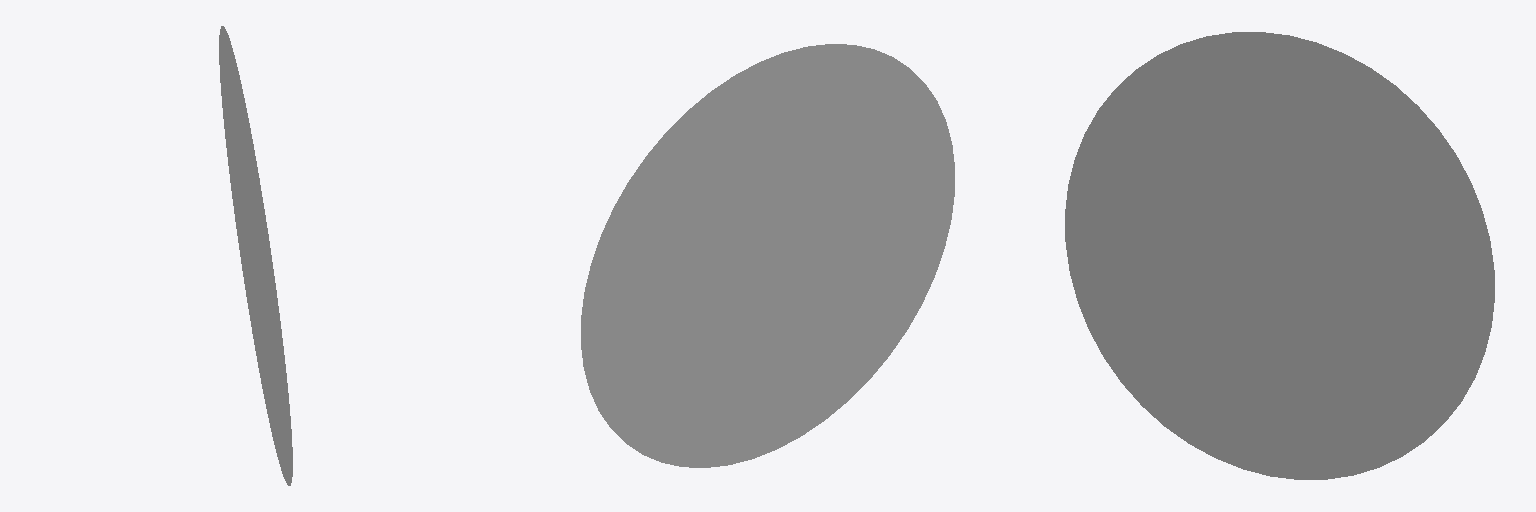
The model's file is stoplight_left.obj.
The picture shows the model from 3 angles: view 1: azimuth 30°, elevation 25°; view 2: azimuth 150°, elevation 25°; view 3: azimuth 270°, elevation 25°; orthographic projection.
Parts seen in each view (by area): view 1: stoplight_left; view 2: stoplight_left; view 3: stoplight_left.
Boxes of the visible parts, box(x1,y1,x2,y2) form: stoplight_left: box(219, 26, 292, 485); stoplight_left: box(581, 44, 954, 467); stoplight_left: box(1065, 32, 1494, 479).
Bounding box in the file's own units: 0.0569 × 0.1406 × 0.1298.